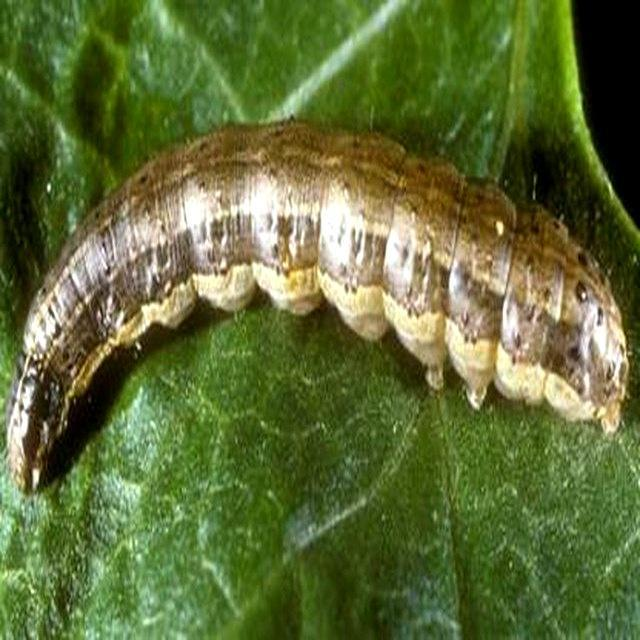gusano_cogollero: (5, 85, 628, 495)
